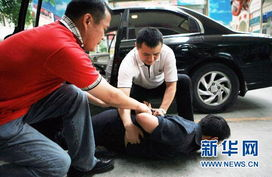fall: (66, 93, 236, 161)
